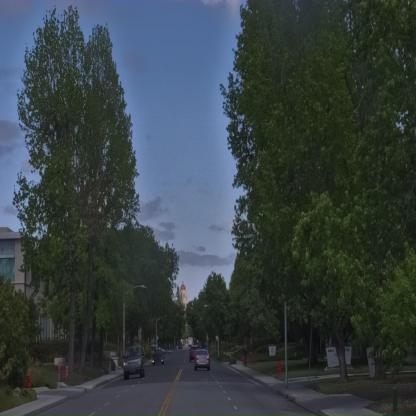car: (122, 346, 146, 379), (194, 350, 211, 371), (152, 348, 166, 366)
fire hydrant: (276, 358, 283, 378), (240, 354, 245, 364)
